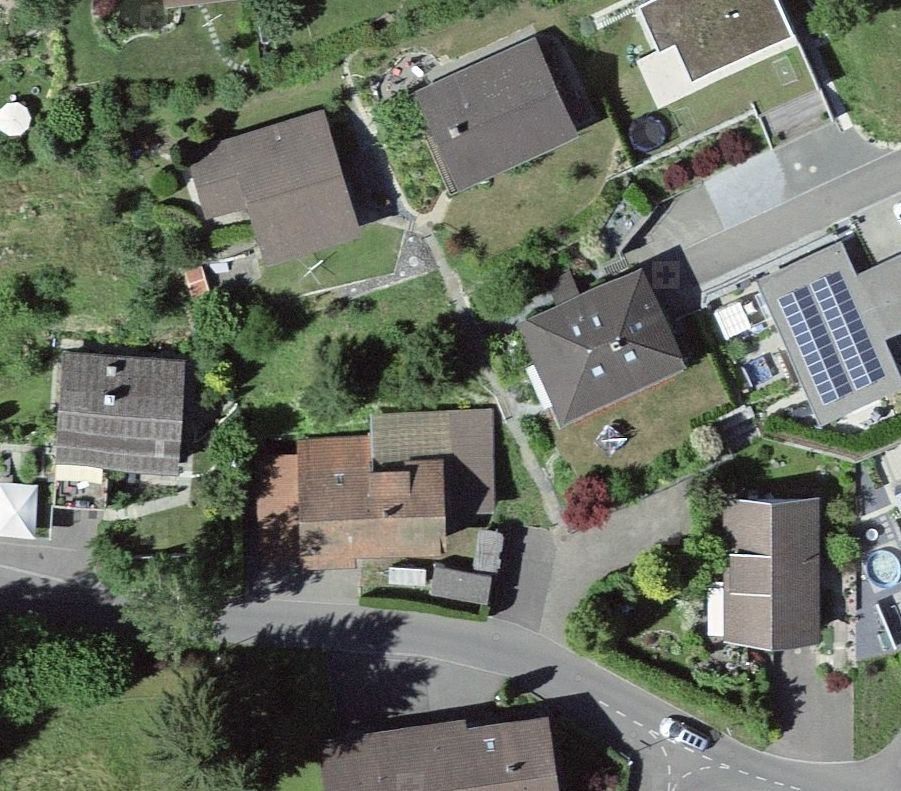solar: (777, 268, 887, 406)
